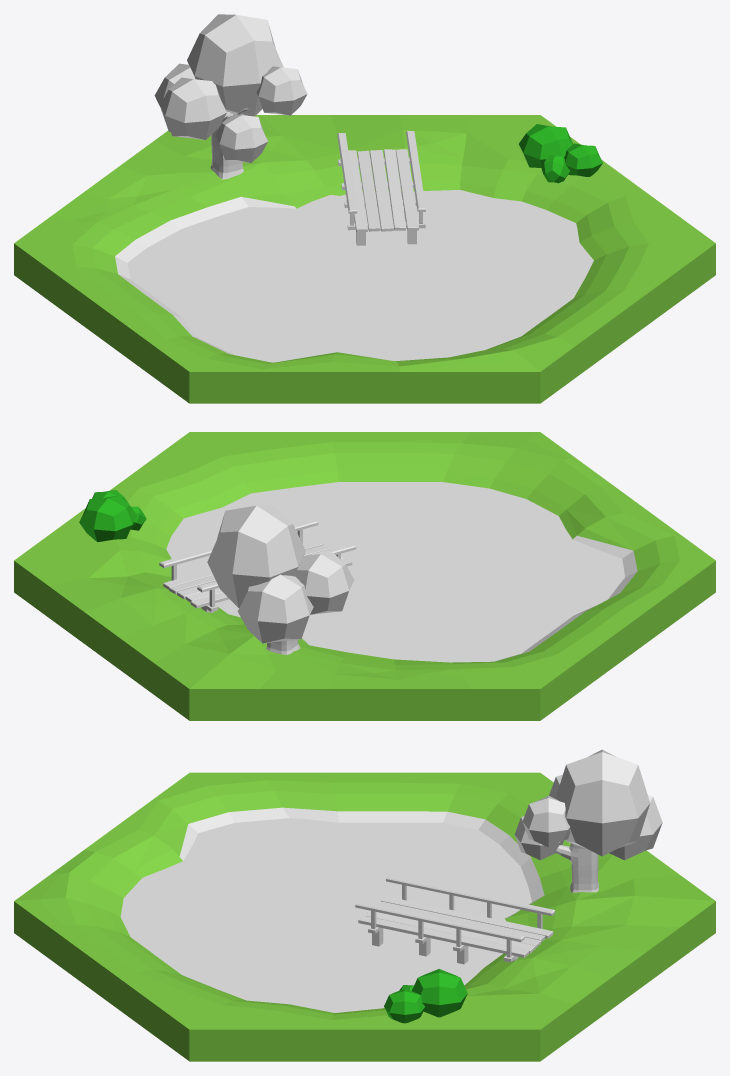
Rendered from PierJoined.fbx.
3 renders of one model, top to bottom at view 1: azimuth 30°, elevation 25°; view 2: azimuth 150°, elevation 25°; view 3: azimuth 270°, elevation 25°, orthographic.
Visible parts, largest first — view 1: Plane.001; view 2: Plane.001; view 3: Plane.001.
Boxes of the visible parts, <box> form: Plane.001: <box>14,14,715,403</box>; Plane.001: <box>14,432,715,720</box>; Plane.001: <box>14,749,715,1061</box>.
Bounding box in the file's own units: 173 × 55.36 × 200.
